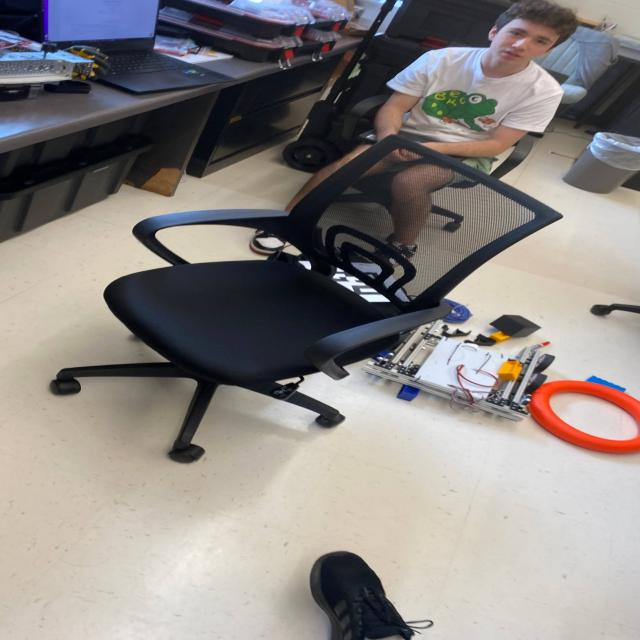blue-specimen: (396, 385, 420, 401), (372, 350, 392, 364)
yellow-specimen: (502, 362, 522, 379), (489, 331, 510, 344)
